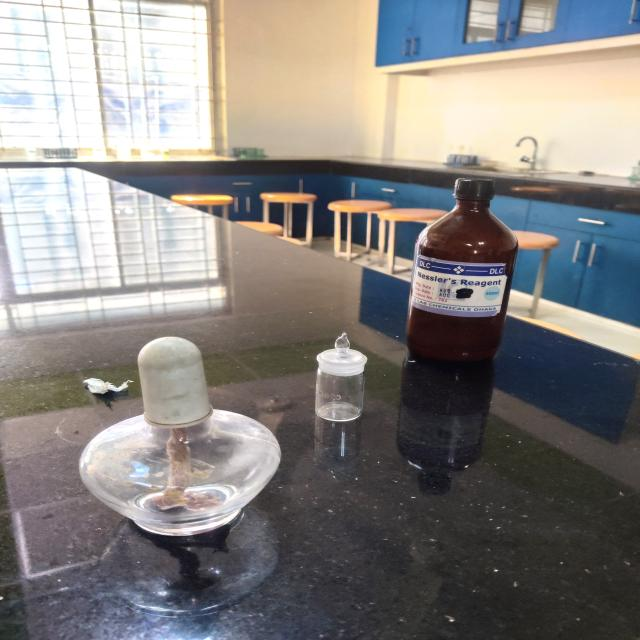Nessler_Reagent_Bottle: (397, 165, 538, 387)
Spirit_Lamp: (49, 322, 292, 564)
Weighing_Bottle: (309, 315, 382, 437)
